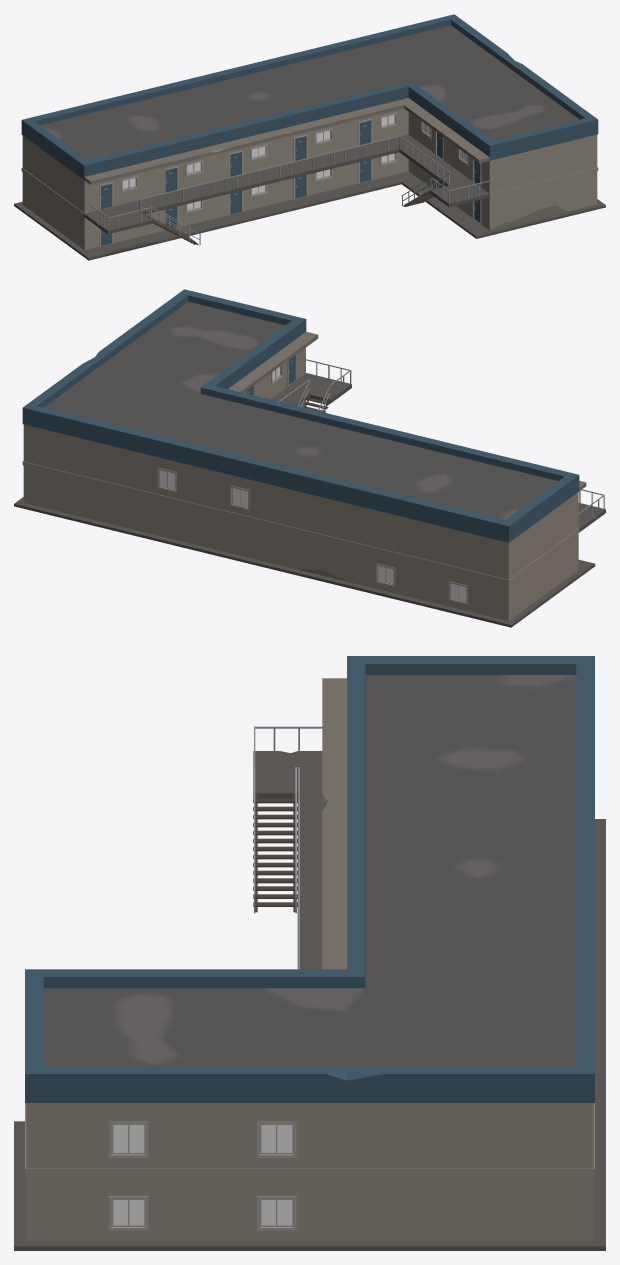
Rendered from SM_Bldg_City_Motel.fbx.
The picture shows the model from 3 angles, top to bottom: view 1: azimuth 30°, elevation 25°; view 2: azimuth 150°, elevation 25°; view 3: azimuth 270°, elevation 25°; orthographic projection. The views are drawn at different scales.
Parts seen in each view (by area): view 1: SM_Bldg_City_Motel, SM_Bldg_City_Motel_Glass; view 2: SM_Bldg_City_Motel, SM_Bldg_City_Motel_Glass; view 3: SM_Bldg_City_Motel, SM_Bldg_City_Motel_Glass.
Part boxes in pixels (x1,y1,x2,y2): SM_Bldg_City_Motel: (14, 14, 605, 260); SM_Bldg_City_Motel_Glass: (122, 115, 467, 210); SM_Bldg_City_Motel: (14, 289, 605, 627); SM_Bldg_City_Motel_Glass: (160, 367, 466, 601); SM_Bldg_City_Motel: (14, 656, 605, 1250); SM_Bldg_City_Motel_Glass: (113, 1125, 292, 1225).
Size of the model in its own units: 4100 by 770 by 2400.
